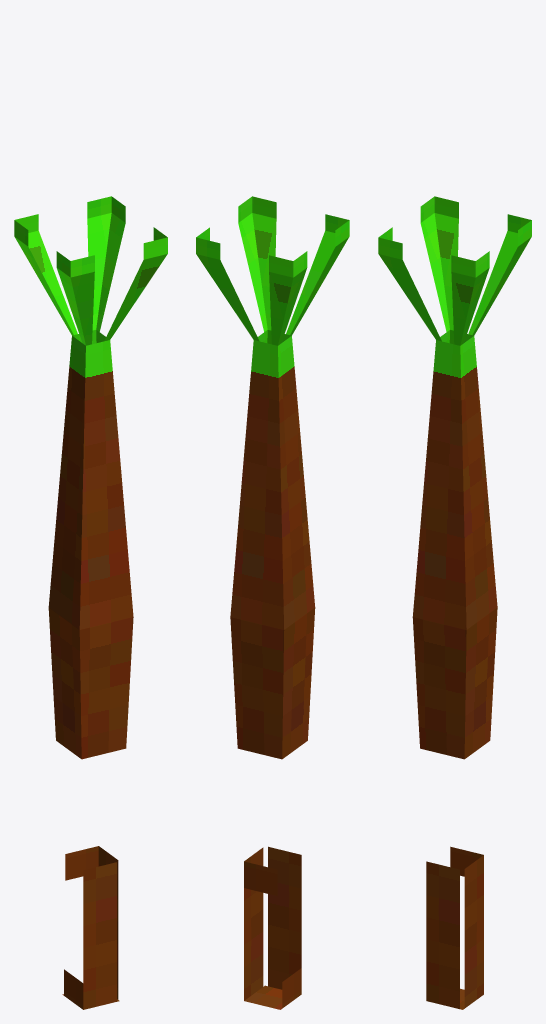
The model's file is pearcel_staff.obj.
The picture shows the model from 3 angles, left to right: view 1: azimuth 30°, elevation 25°; view 2: azimuth 150°, elevation 25°; view 3: azimuth 330°, elevation 25°; orthographic projection.
Visible parts, largest first — view 1: Cube.002; view 2: Cube.002; view 3: Cube.002.
Part boxes in pixels (x1=…): Cube.002: x1=14, y1=196, x2=167, y2=1009; Cube.002: x1=196, y1=196, x2=349, y2=1009; Cube.002: x1=378, y1=196, x2=531, y2=1009.
Size of the model in its own units: 3.63 by 34.66 by 3.62.
